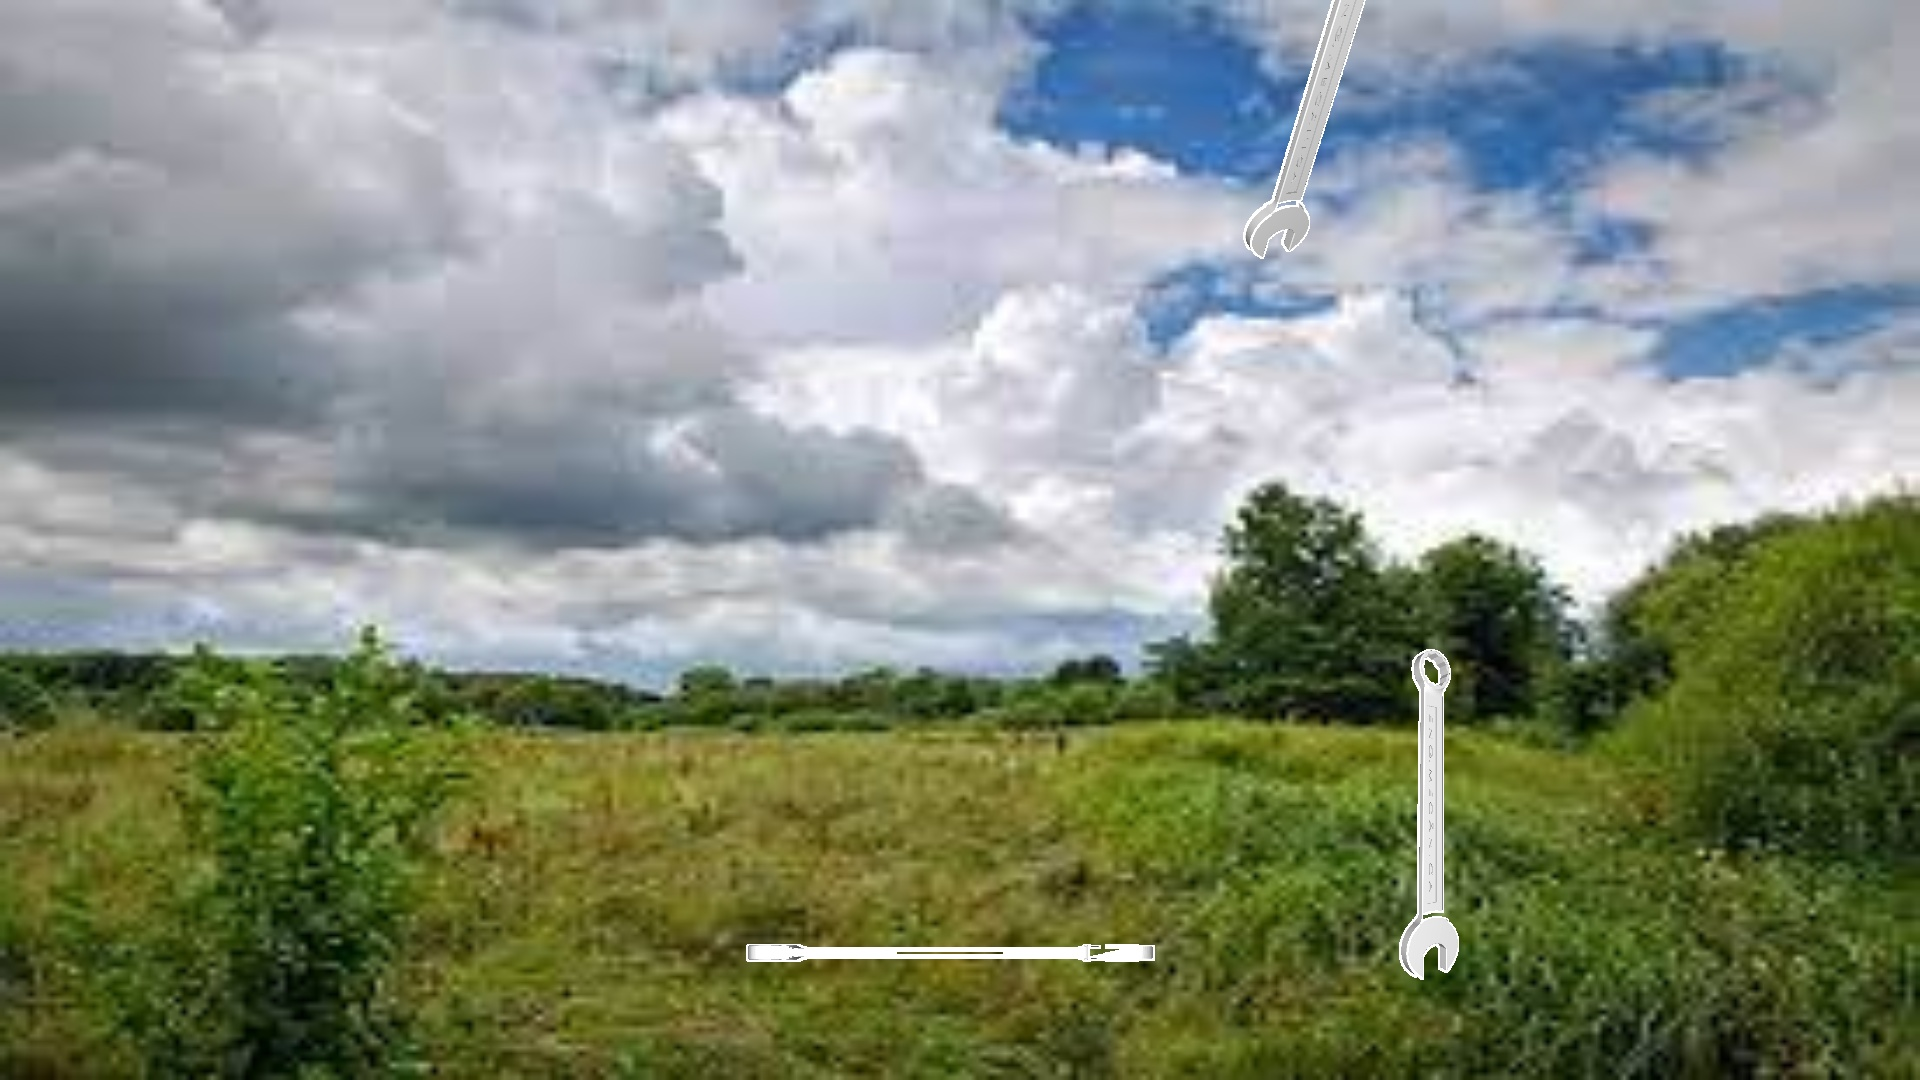Mixed Key: (1244, 0, 1365, 258), (1399, 649, 1458, 978), (746, 944, 1154, 961)
